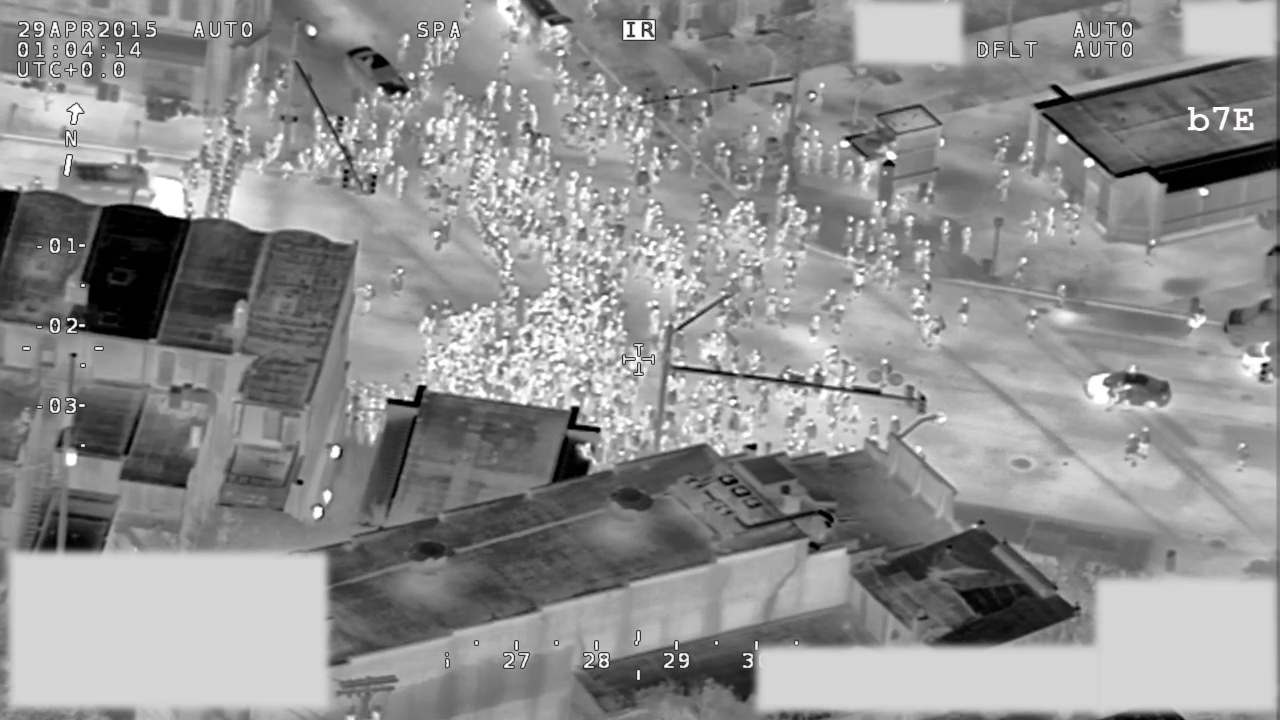vehicle: (338, 40, 417, 106), (1085, 369, 1172, 409)
